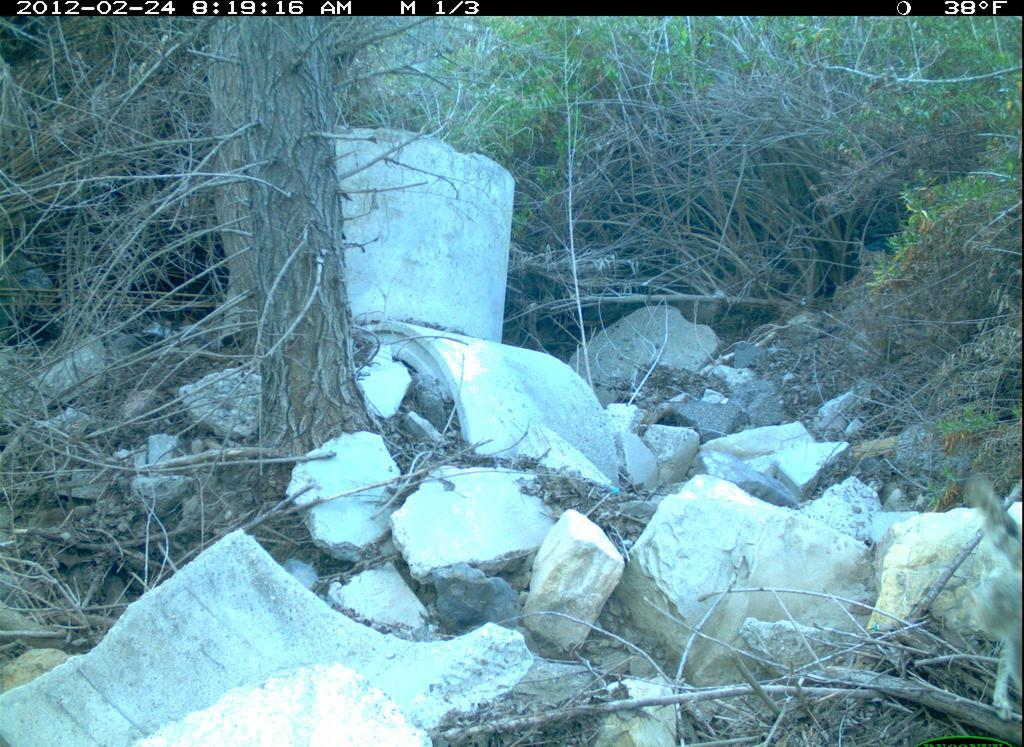coyote: (954, 440, 1019, 734)
